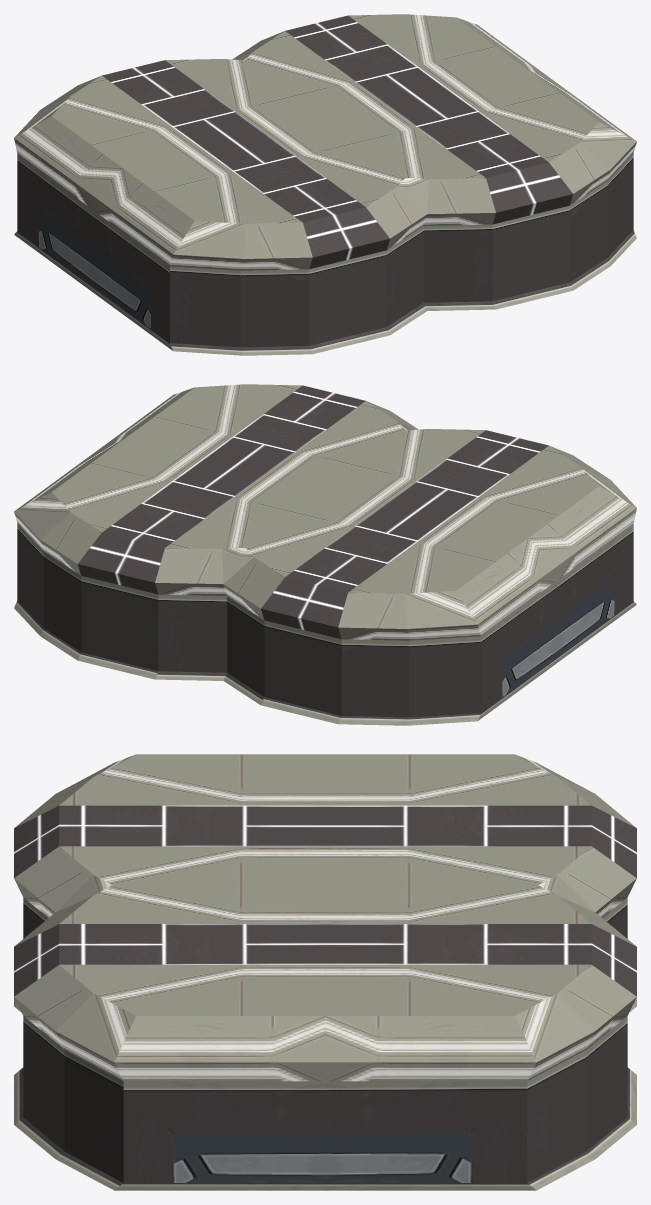
File: KF_SM_XBuilding009.fbx
3 views of the same model, one above another, from view 1: azimuth 30°, elevation 25°; view 2: azimuth 150°, elevation 25°; view 3: azimuth 270°, elevation 25° (orthographic). The views are drawn at different scales.
Visible parts, largest first — view 1: KF_SM_XBuilding009; view 2: KF_SM_XBuilding009; view 3: KF_SM_XBuilding009.
Part boxes in pixels (<box>): KF_SM_XBuilding009: <box>14,14,636,355</box>; KF_SM_XBuilding009: <box>14,384,636,725</box>; KF_SM_XBuilding009: <box>14,754,636,1190</box>.
Bounding box in the file's own units: 7383 × 1786 × 6485.
